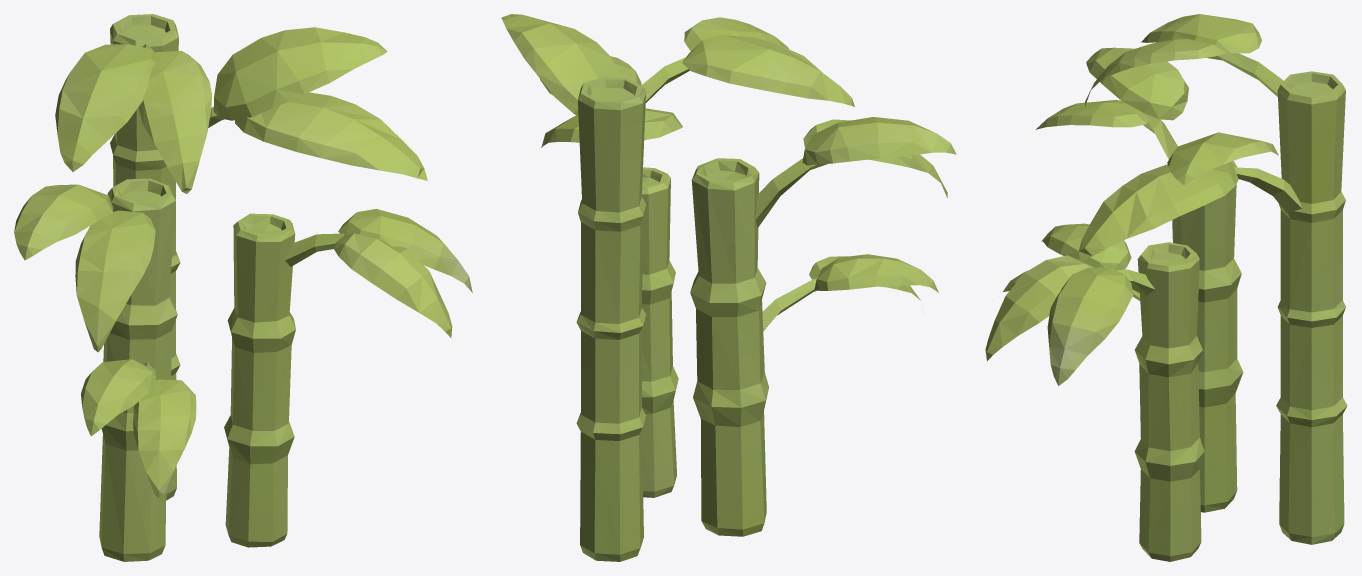
The model's file is bamboo.glb.
3 views of the same model, side by side, from view 1: azimuth 30°, elevation 25°; view 2: azimuth 150°, elevation 25°; view 3: azimuth 270°, elevation 25° (orthographic). The views are drawn at different scales.
Visible parts, largest first — view 1: geometry_0; view 2: geometry_0; view 3: geometry_0.
Boxes of the visible parts, <box> form: geometry_0: <box>14,14,472,561</box>; geometry_0: <box>501,14,956,561</box>; geometry_0: <box>985,14,1347,561</box>.
Size of the model in its own units: 0.1504 by 0.1636 by 0.1138.
